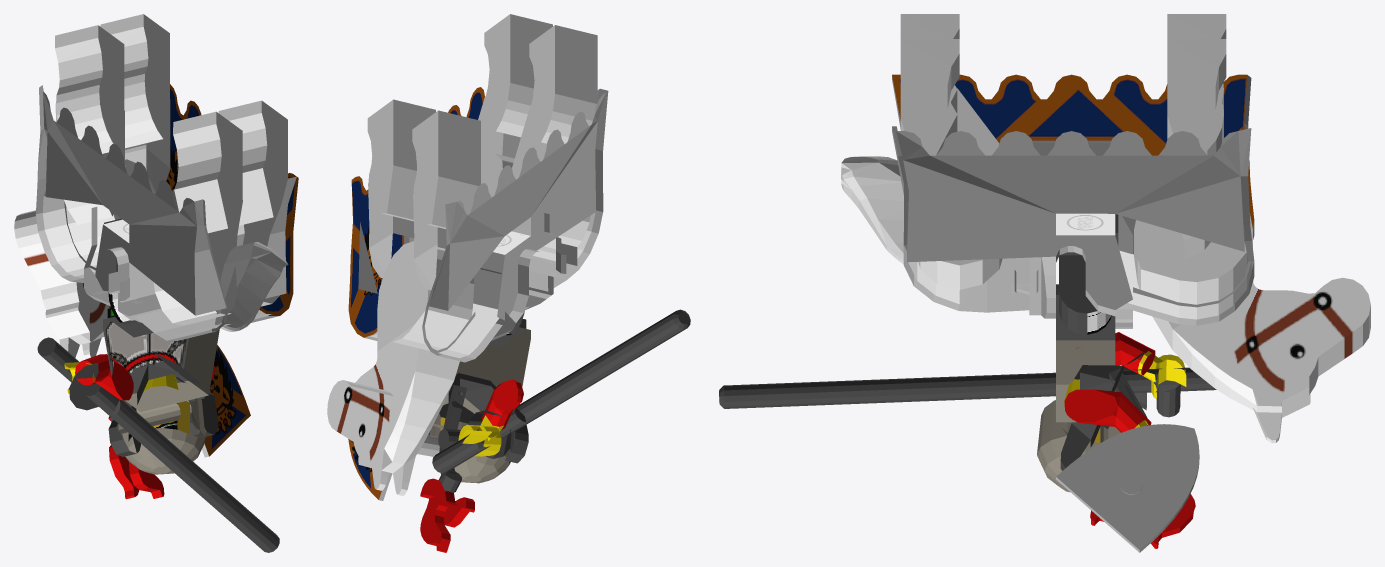
Rendered from minifigrichardstrong01.glb.
3 views of the same model, side by side, from view 1: azimuth 30°, elevation 25°; view 2: azimuth 150°, elevation 25°; view 3: azimuth 270°, elevation 25° (orthographic). The views are drawn at different scales.
Visible parts, largest first — view 1: 046_shape24, 053_shape29, 034_shape17, 065_shape33, 059_shape29, 074_shape35, 071_shape33, 023_shape10, 026_shape11, 077_shape37, 028_shape13, 042_shape22 (+6 smaller); view 2: 046_shape24, 074_shape35, 053_shape29, 034_shape17, 065_shape33, 059_shape29, 026_shape11, 071_shape33, 062_shape31, 023_shape10, 068_shape31, 056_shape27 (+5 smaller); view 3: 046_shape24, 074_shape35, 042_shape22, 034_shape17, 059_shape29, 071_shape33, 077_shape37, 026_shape11, 016_shape5, 038_shape20, 023_shape10, 028_shape13 (+7 smaller).
Boxes of the visible parts, <box> form: 046_shape24: <box>35,84,298,340</box>; 053_shape29: <box>55,25,124,153</box>; 034_shape17: <box>37,337,279,552</box>; 065_shape33: <box>173,111,242,233</box>; 059_shape29: <box>100,14,169,148</box>; 074_shape35: <box>14,159,155,359</box>; 071_shape33: <box>218,100,287,225</box>; 023_shape10: <box>103,318,219,411</box>; 026_shape11: <box>108,352,218,499</box>; 077_shape37: <box>215,242,288,331</box>; 028_shape13: <box>118,374,205,474</box>; 042_shape22: <box>202,345,250,457</box>; 046_shape24: <box>348,87,608,362</box>; 074_shape35: <box>327,241,474,495</box>; 053_shape29: <box>412,110,480,228</box>; 034_shape17: <box>432,309,690,473</box>; 065_shape33: <box>529,25,597,143</box>; 059_shape29: <box>367,99,435,221</box>; 026_shape11: <box>420,373,528,552</box>; 071_shape33: <box>484,14,552,137</box>; 062_shape31: <box>512,94,596,253</box>; 023_shape10: <box>443,329,530,413</box>; 068_shape31: <box>478,83,533,197</box>; 056_shape27: <box>368,183,414,278</box>; 046_shape24: <box>892,74,1254,328</box>; 074_shape35: <box>1134,213,1370,443</box>; 042_shape22: <box>1056,424,1199,552</box>; 034_shape17: <box>719,352,1216,417</box>; 059_shape29: <box>1167,39,1226,155</box>; 071_shape33: <box>900,39,959,155</box>; 077_shape37: <box>841,156,903,263</box>; 026_shape11: <box>1060,365,1195,548</box>; 016_shape5: <box>1059,255,1111,334</box>; 038_shape20: <box>1064,389,1151,432</box>; 023_shape10: <box>1056,340,1115,422</box>; 028_shape13: <box>1037,379,1120,492</box>.
Size of the model in its own units: 2.66 by 7.57 by 8.8.
14 materials, 8 textured.
